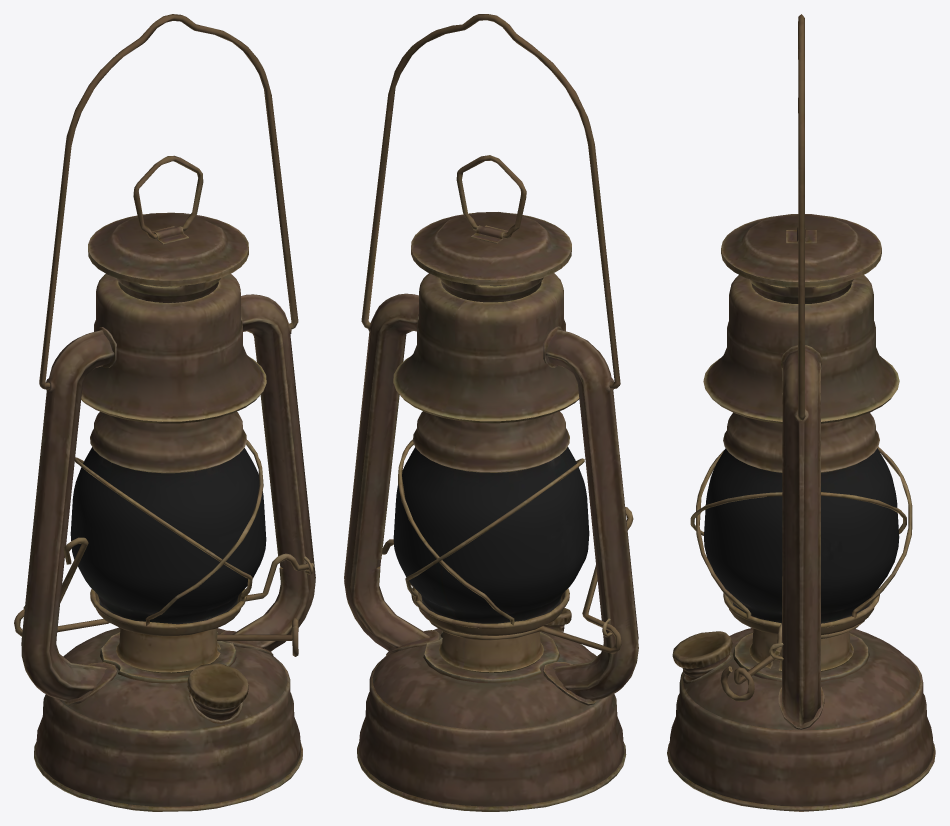
File: Lantern_01.glb
3 renders of one model, left to right at view 1: azimuth 30°, elevation 25°; view 2: azimuth 150°, elevation 25°; view 3: azimuth 270°, elevation 25°, orthographic.
Visible parts, largest first — view 1: Lantern_01, Lantern_01_glass; view 2: Lantern_01, Lantern_01_glass; view 3: Lantern_01, Lantern_01_glass.
Part boxes in pixels (x1,y1,x2,y2): Lantern_01: (14,14,315,811); Lantern_01_glass: (70,447,266,624); Lantern_01: (344,14,638,811); Lantern_01_glass: (393,447,589,623); Lantern_01: (667,14,935,811); Lantern_01_glass: (704,448,899,623).
Size of the model in its own units: 0.1221 by 0.294 by 0.097.
2 materials, 2 textured.
